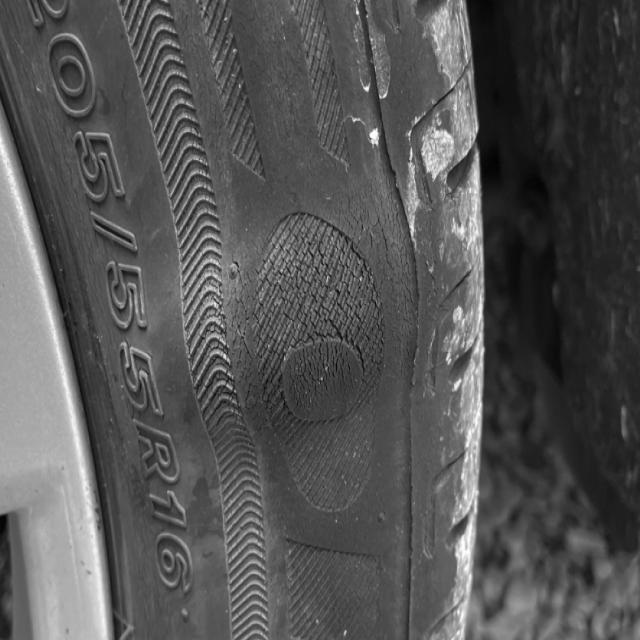Bulge: (111, 194, 464, 456)
